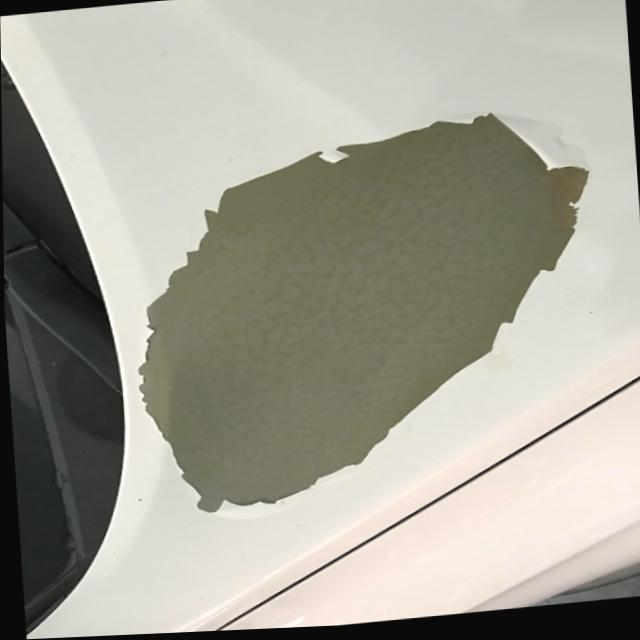Paint-fading: (129, 99, 600, 519)
